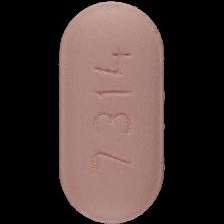66116-494: (0, 0, 224, 224)
